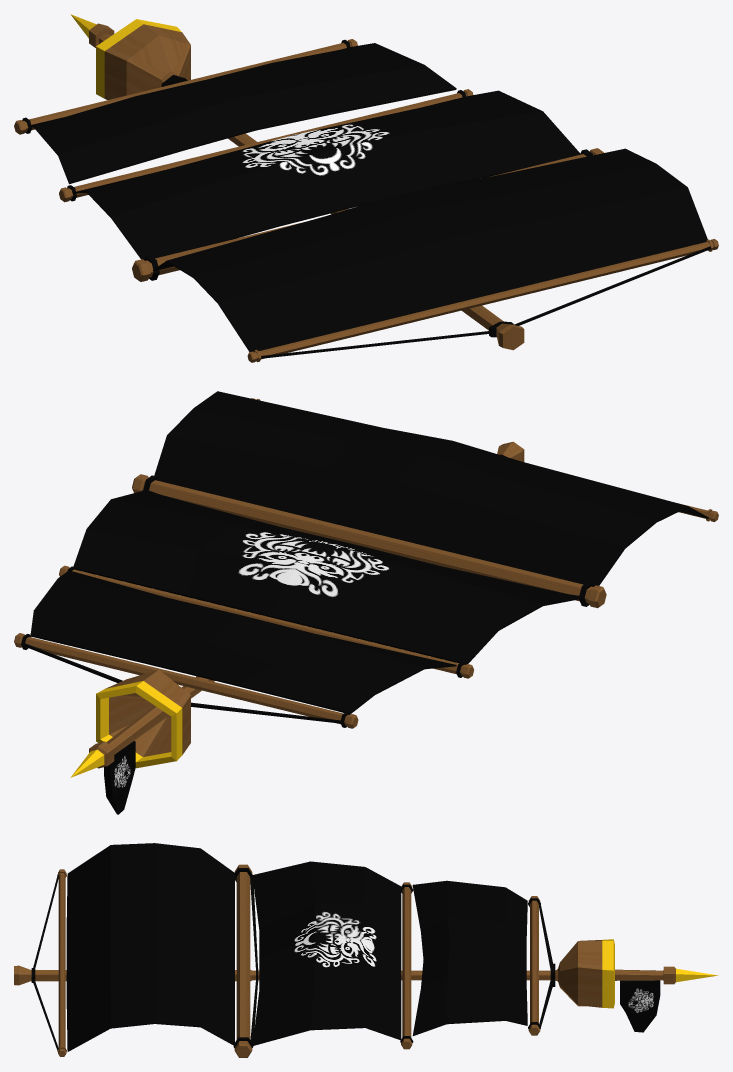
The model's file is sail_a_22.fbx.
The picture shows the model from 3 angles, top to bottom: view 1: azimuth 30°, elevation 25°; view 2: azimuth 150°, elevation 25°; view 3: azimuth 270°, elevation 25°; orthographic projection. The views are drawn at different scales.
Visible parts, largest first — view 1: Cube.217; view 2: Cube.217; view 3: Cube.217.
Part boxes in pixels (x1=…): Cube.217: x1=14, y1=14, x2=718, y2=362; Cube.217: x1=14, y1=391, x2=718, y2=814; Cube.217: x1=14, y1=843, x2=718, y2=1057.
Size of the model in its own units: 221 by 61.47 by 362.
